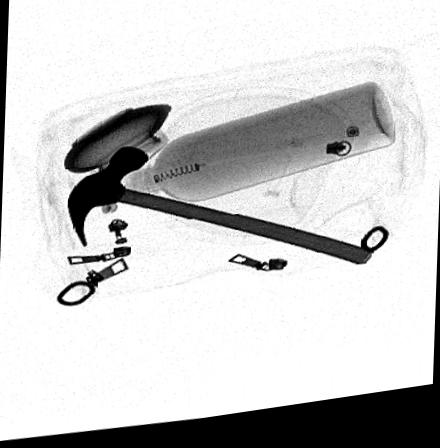Hammer: (66, 148, 372, 275)
